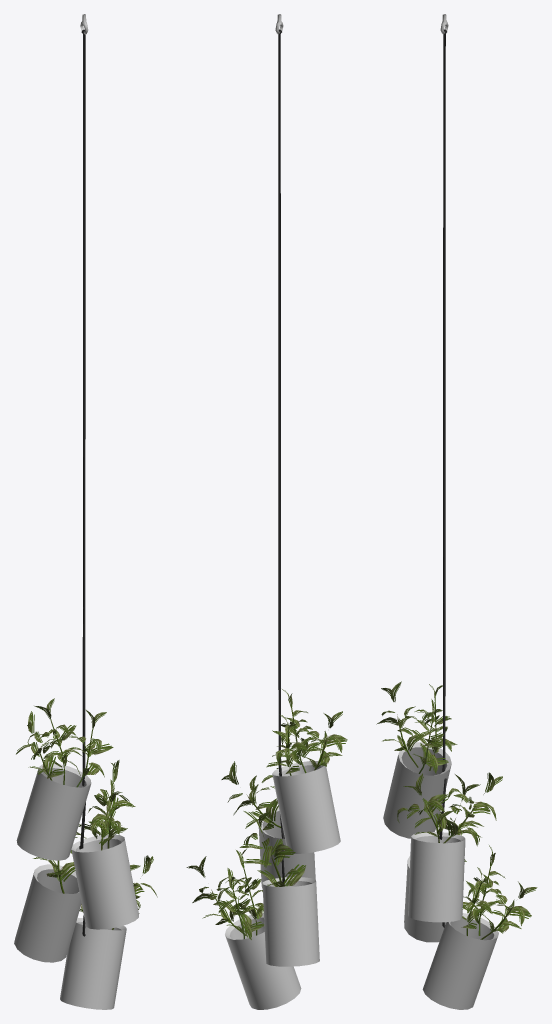
File: folliage.fbx
3 renders of one model, left to right at view 1: azimuth 30°, elevation 25°; view 2: azimuth 150°, elevation 25°; view 3: azimuth 330°, elevation 25°, orthographic.
Visible parts, largest first — view 1: Tin_Can_B; view 2: Tin_Can_B; view 3: Tin_Can_B.
Boxes of the visible parts, box(x1,y1,x2,y2) form: Tin_Can_B: box(14, 14, 157, 1009); Tin_Can_B: box(186, 14, 347, 1009); Tin_Can_B: box(376, 14, 537, 1009).
Size of the model in its own units: 30.6 by 198 by 24.08.
